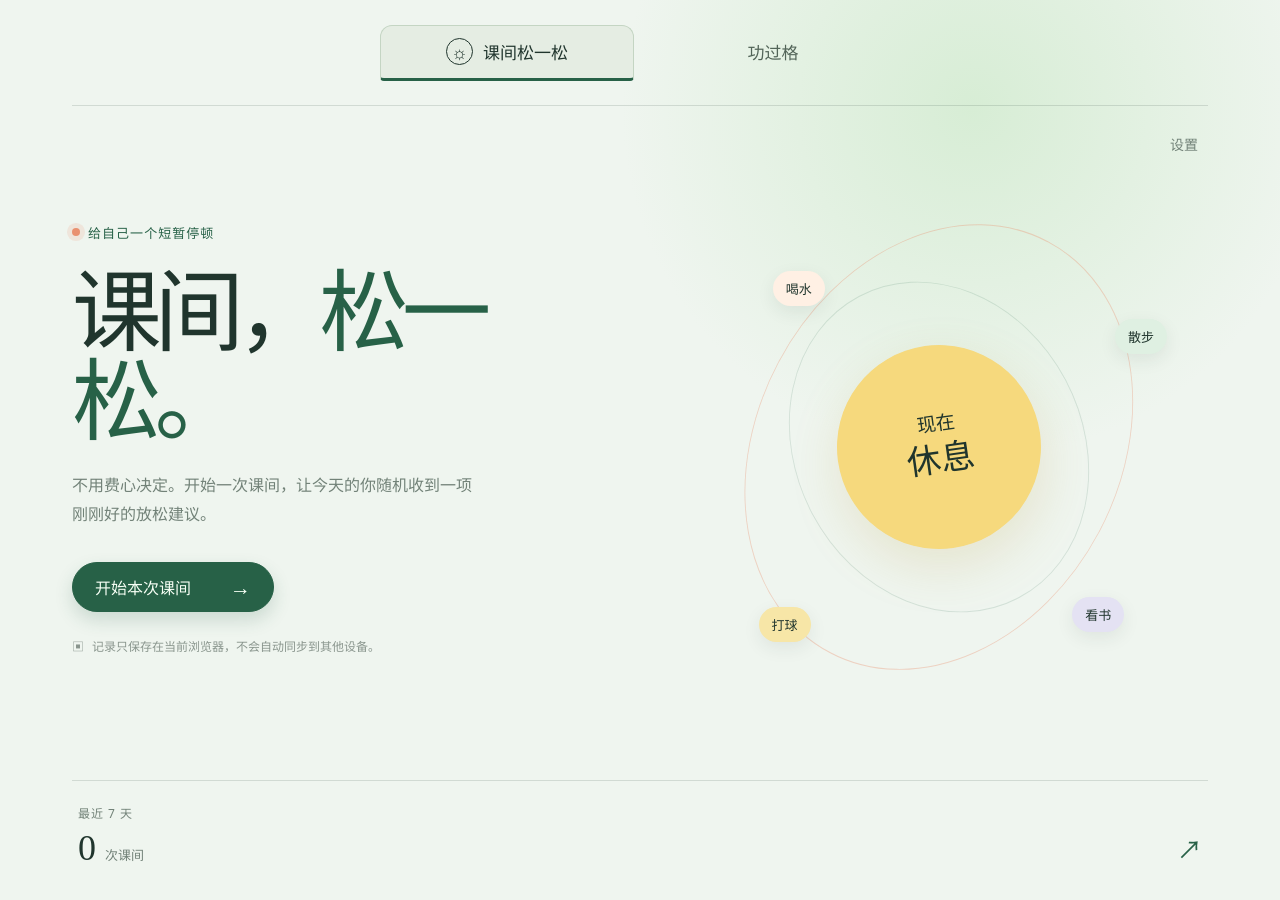
it: 课间核心界面 › keeps completion separate from ending and records an incomplete break
The image size is (1280, 900).
Step 1. Click the button "开始本次课间 →" → (173, 586), box [72,562,274,612]
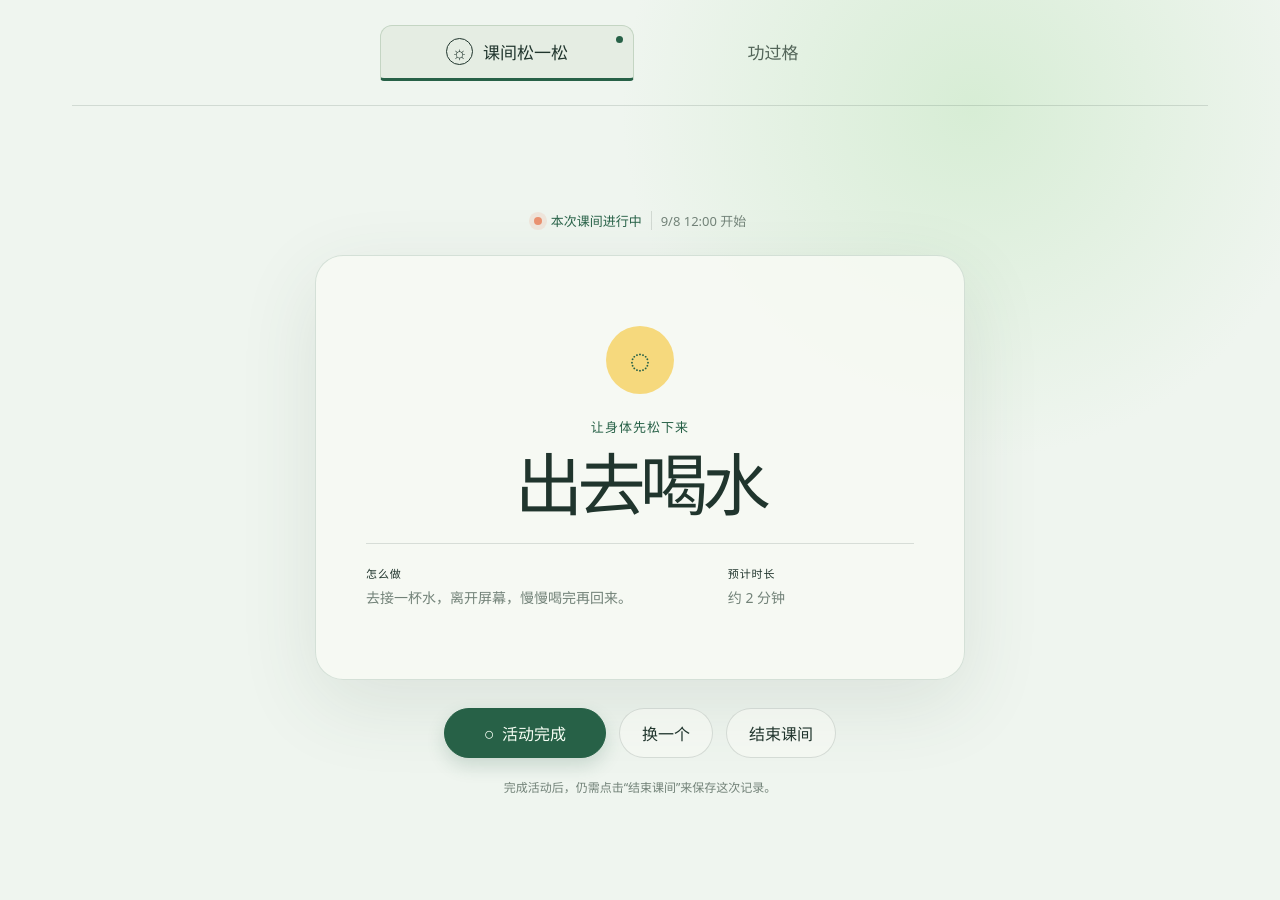
Check: the heading "出去喝水" is shown, box [515,452,765,515]
Step 2. Click the button "○活动完成" → (525, 733), box [444,708,606,758]
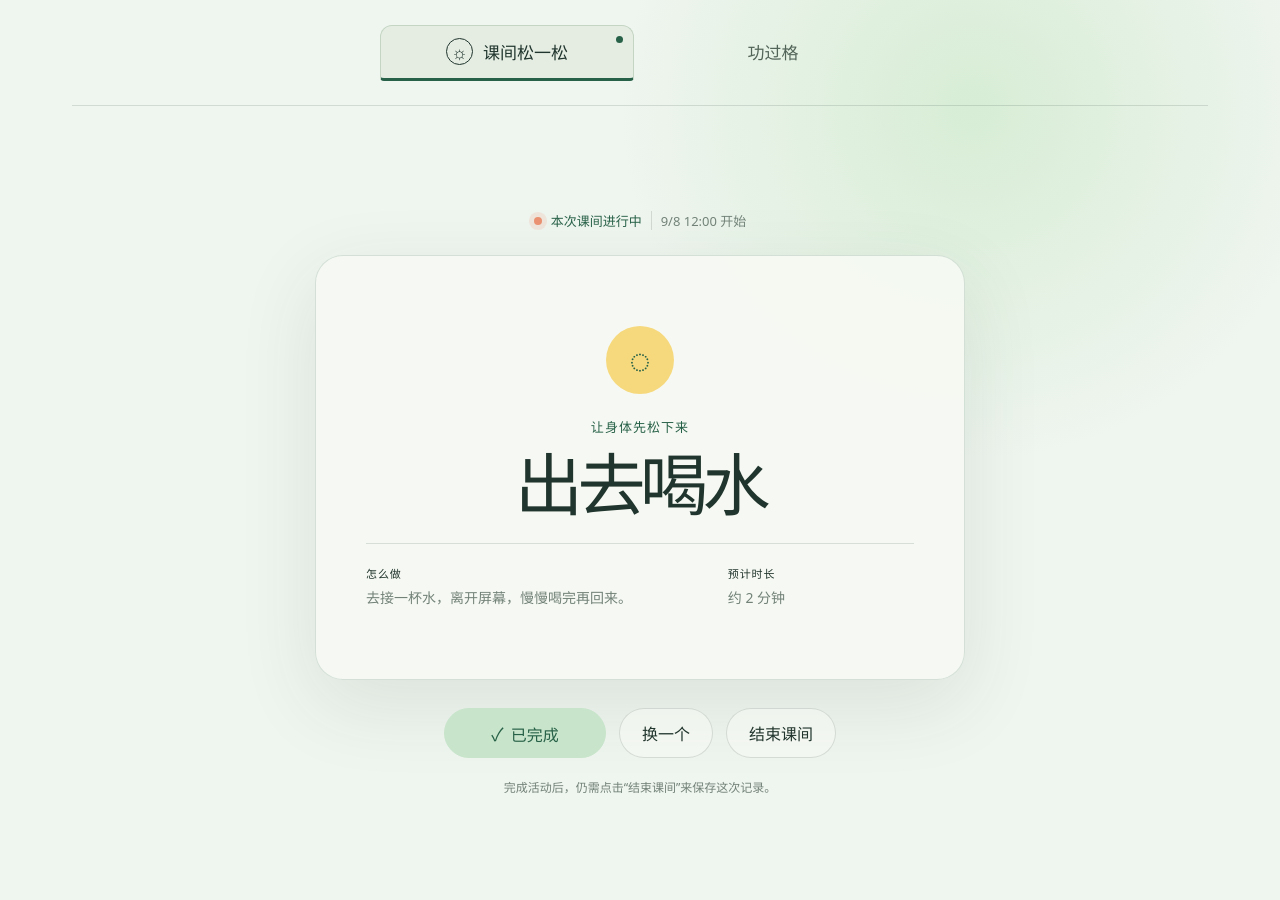
Check: the button "结束课间" is shown
Check: the button "✓已完成" is shown, box [444,708,606,758]
Step 3. Click the button "结束课间" → (781, 733), box [726,708,836,758]
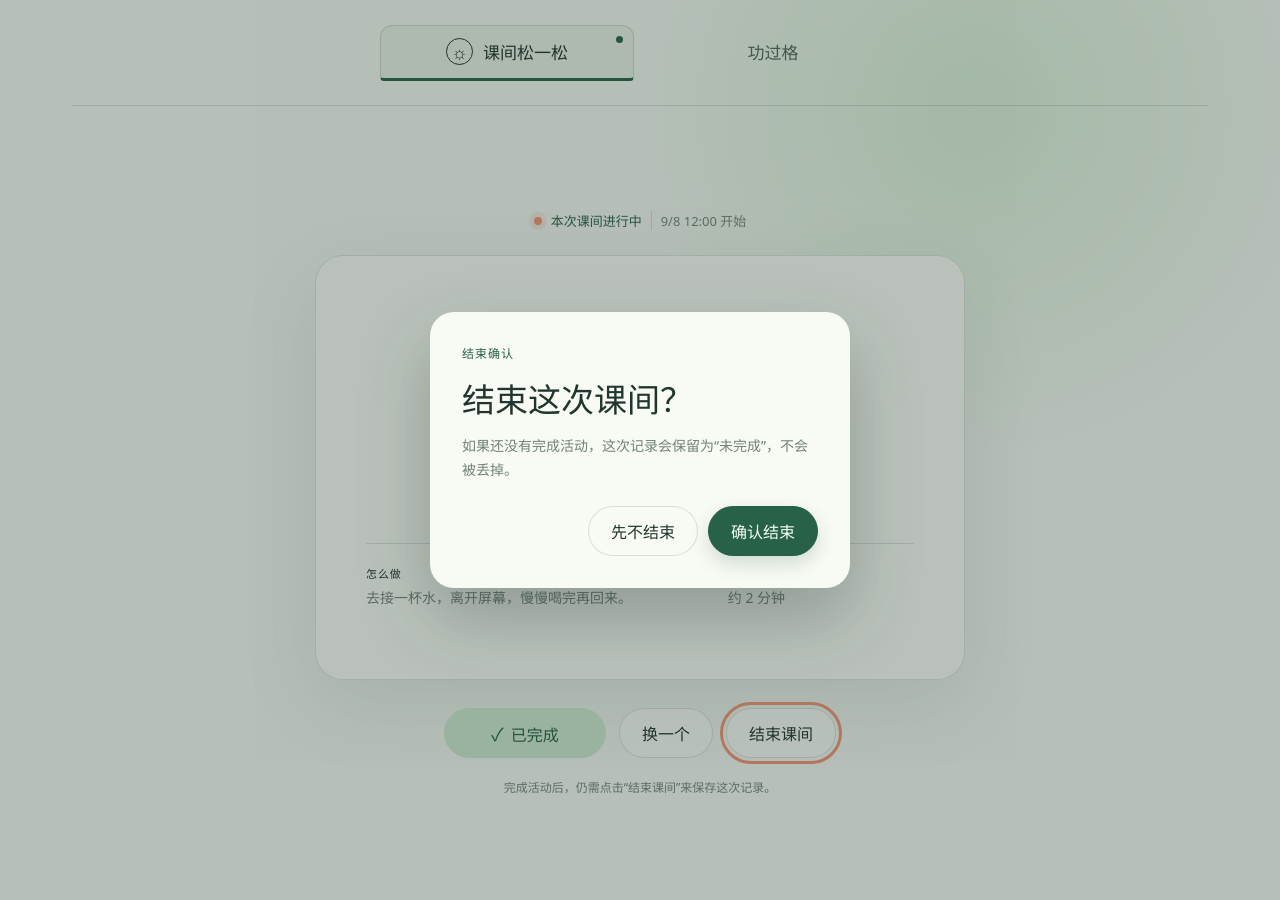
Check: the dialog "结束这次课间？" is shown, box [430,312,850,588]
Step 4. Click the button "确认结束" → (763, 531), box [708,506,818,556]
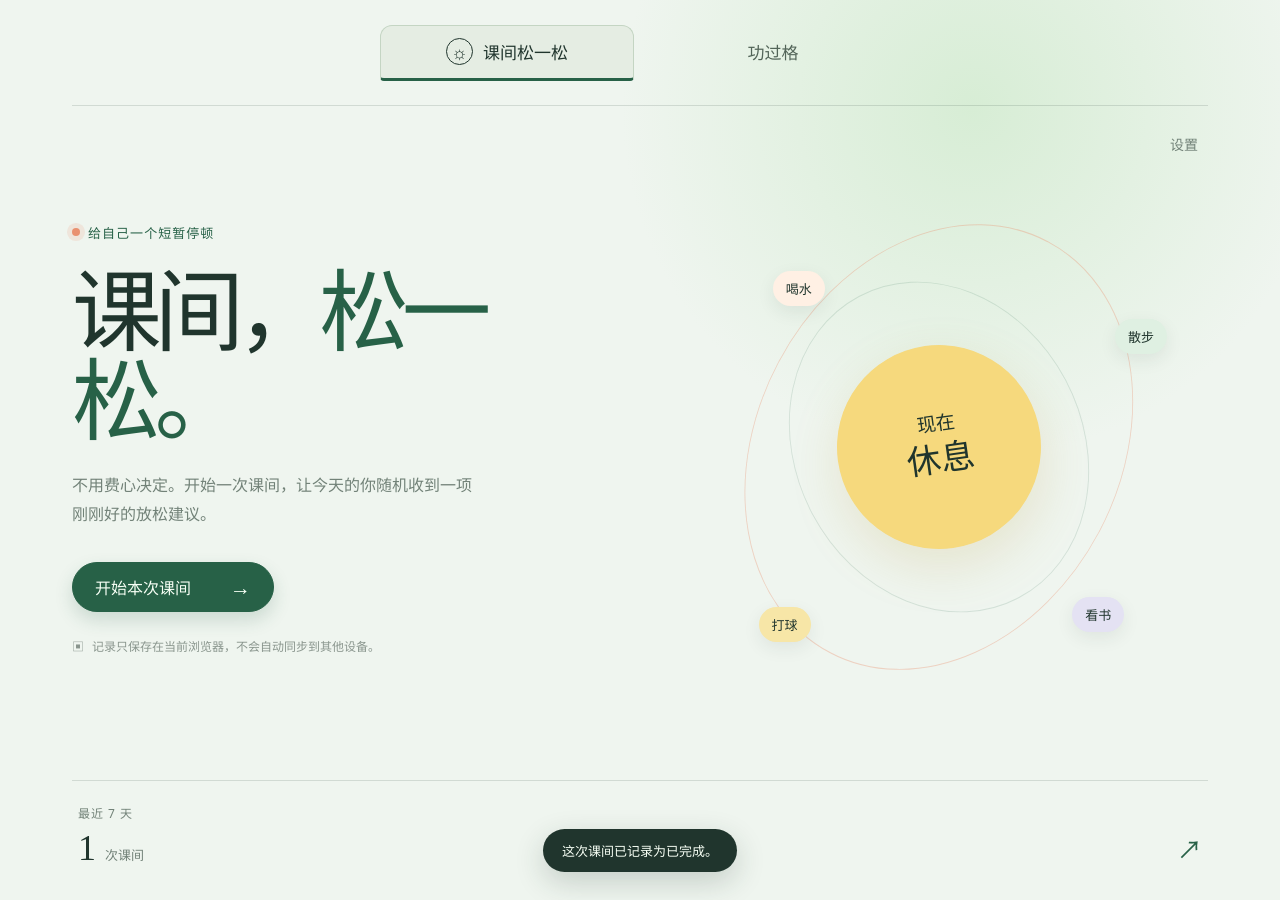
Check: the text "这次课间已记录为已完成。" is shown, box [543,829,737,872]
